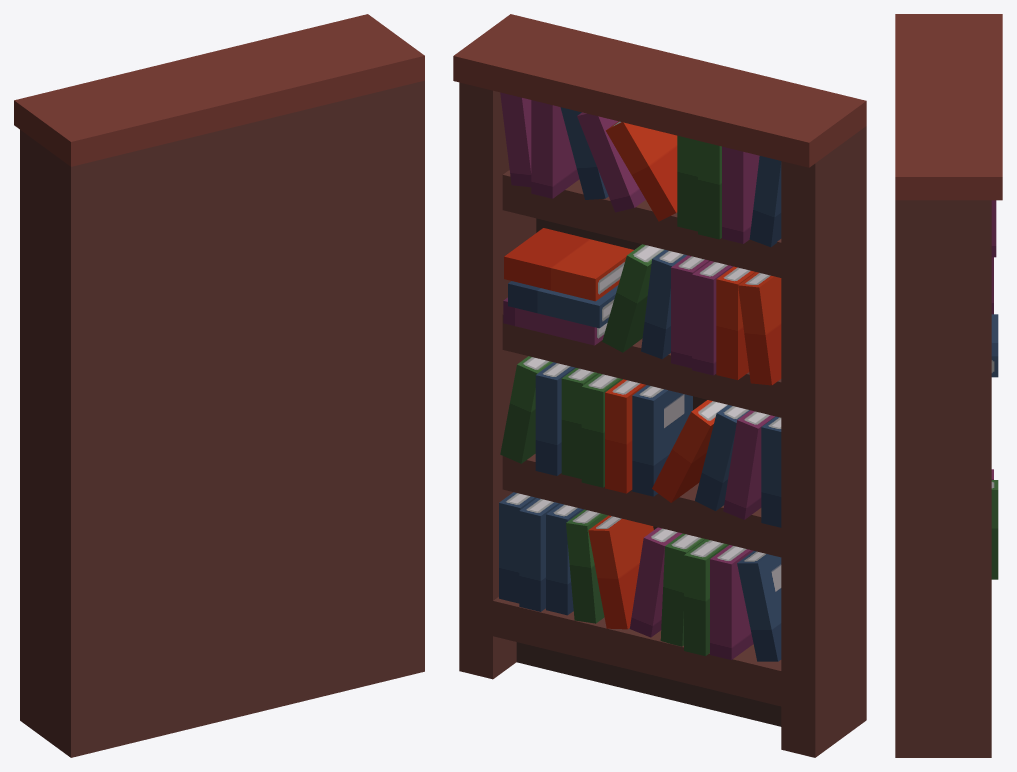
Rendered from bookshelf.fbx.
The picture shows the model from 3 angles, left to right: view 1: azimuth 30°, elevation 25°; view 2: azimuth 150°, elevation 25°; view 3: azimuth 270°, elevation 25°; orthographic projection. The views are drawn at different scales.
Parts seen in each view (by area): view 1: bookshelf; view 2: bookshelf, books; view 3: bookshelf, books.
Part boxes in pixels (bbox=[...]): bookshelf: bbox=[14, 14, 424, 757]; bookshelf: bbox=[453, 14, 866, 757]; books: bbox=[499, 92, 781, 661]; bookshelf: bbox=[895, 14, 1002, 757]; books: bbox=[991, 200, 998, 579].
Size of the model in its own units: 20 by 33.27 by 5.58.
